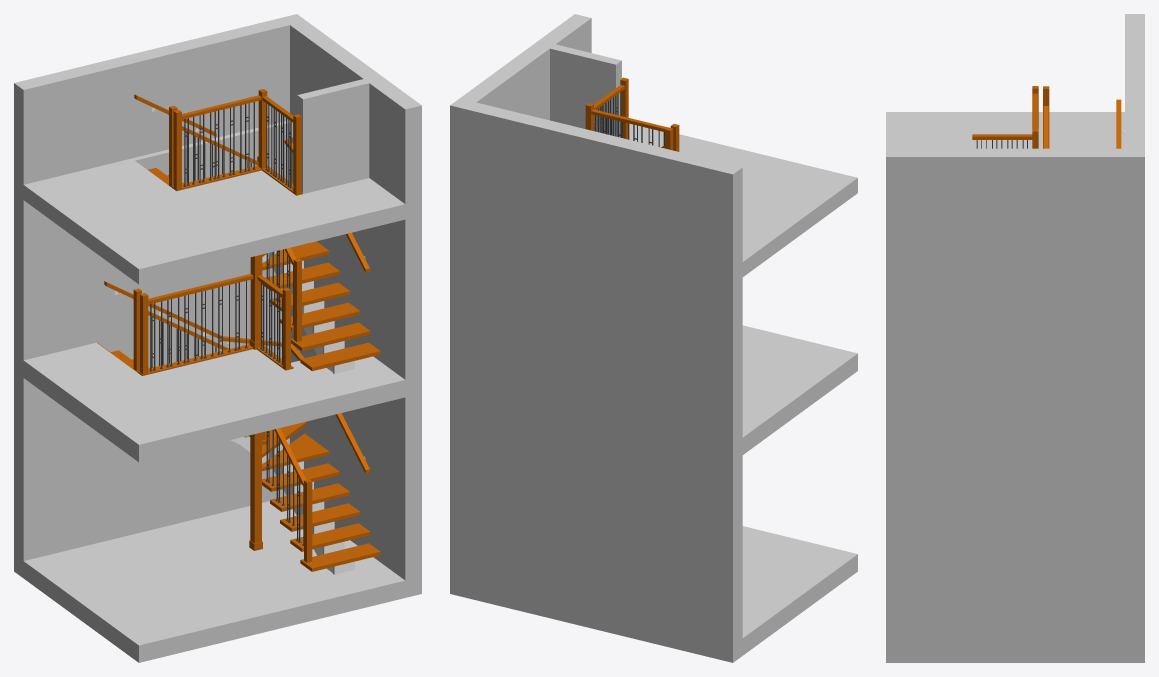
File: 3D Сборка 1.obj
3 renders of one model, left to right at view 1: azimuth 30°, elevation 25°; view 2: azimuth 150°, elevation 25°; view 3: azimuth 270°, elevation 25°, orthographic. The views are drawn at different scales.
Size of the model in its own units: 4.25 by 7.01 by 3.25.
